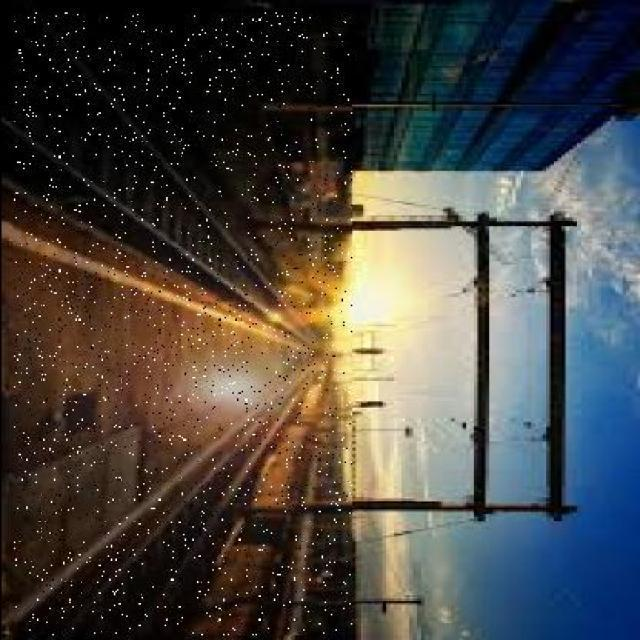rail: (12, 12, 349, 634)
